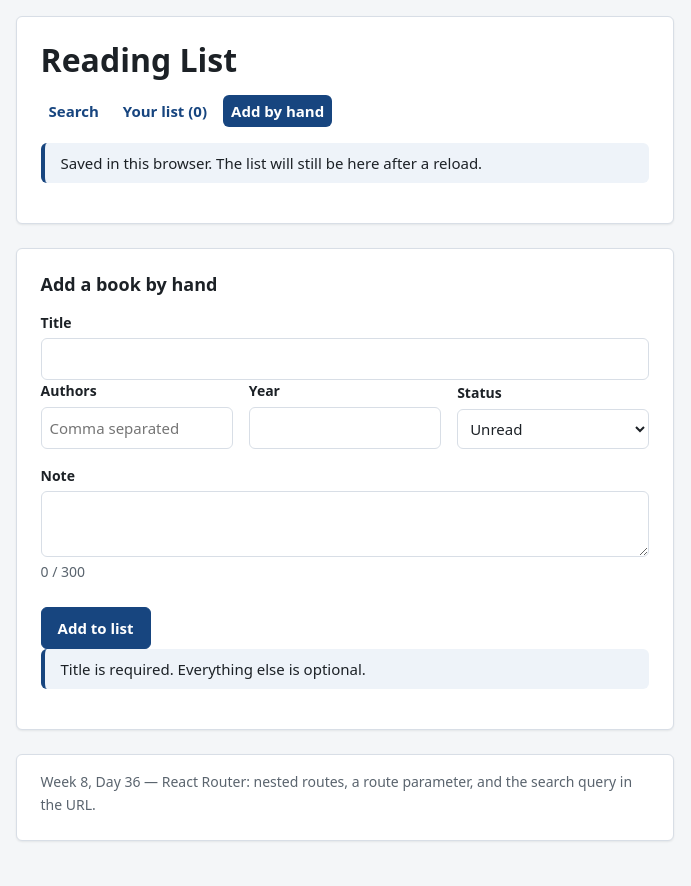
adding by hand › stays on the form when validation fails
Click the button "Add to list" at {"x": 96, "y": 628}, box [40, 608, 151, 650]
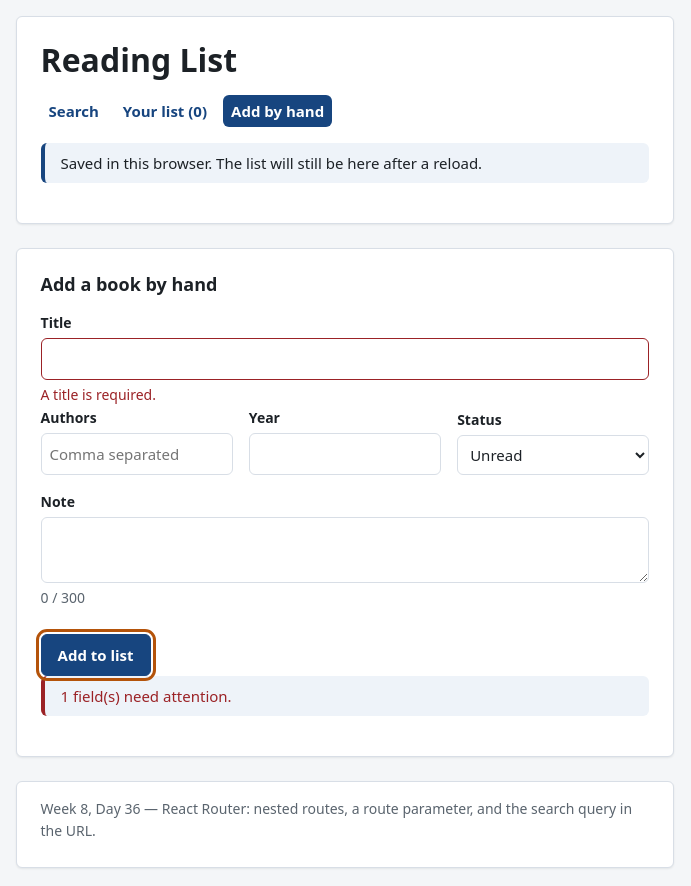
Expected: the heading "Add a book by hand" is shown, [40, 272, 217, 296]
Now the text "A title is required." is shown, box [40, 385, 156, 404]
